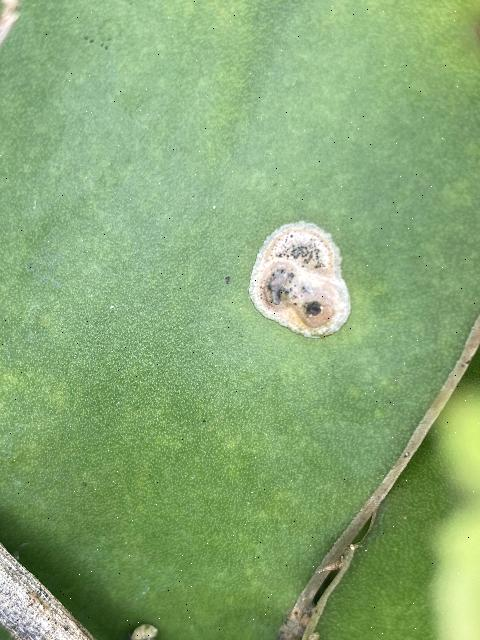stemcanker: (244, 218, 353, 343)
